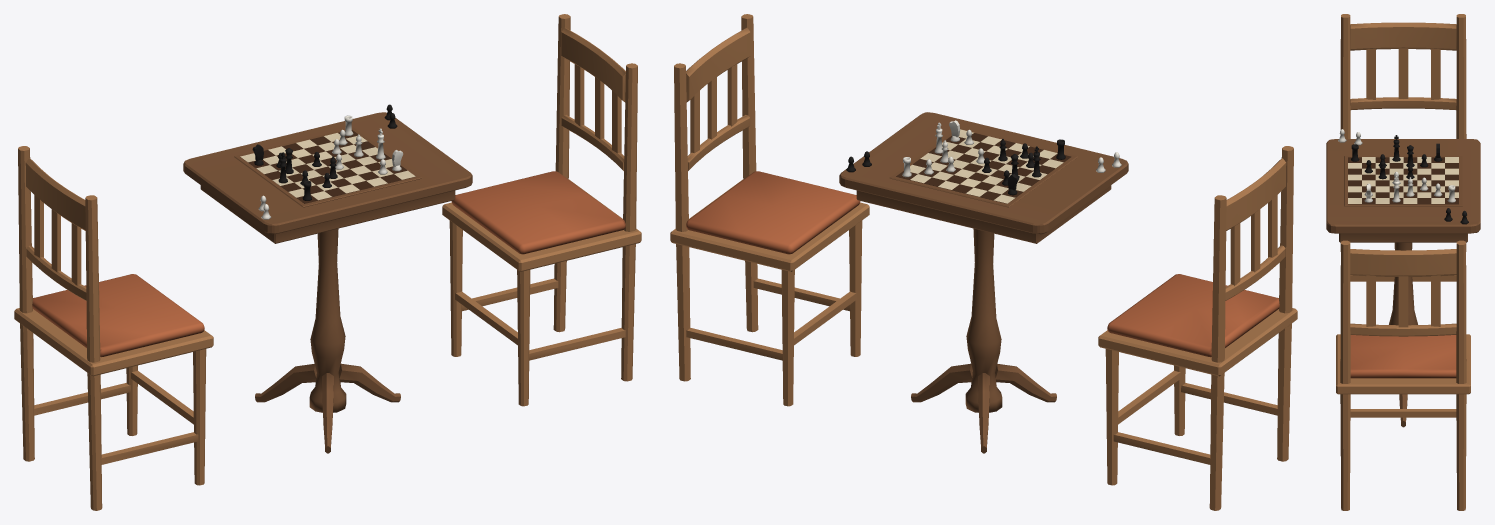
The model's file is chessTable.glb.
3 renders of one model, left to right at view 1: azimuth 30°, elevation 25°; view 2: azimuth 150°, elevation 25°; view 3: azimuth 270°, elevation 25°, orthographic. The views are drawn at different scales.
Parts seen in each view (by area): view 1: body; view 2: body; view 3: body.
Part boxes in pixels (box(x1,y1,x2,y2)): body: box(14, 14, 641, 510); body: box(670, 14, 1297, 510); body: box(1326, 14, 1480, 510).
Size of the model in its own units: 1.7 by 0.9205 by 0.48.
